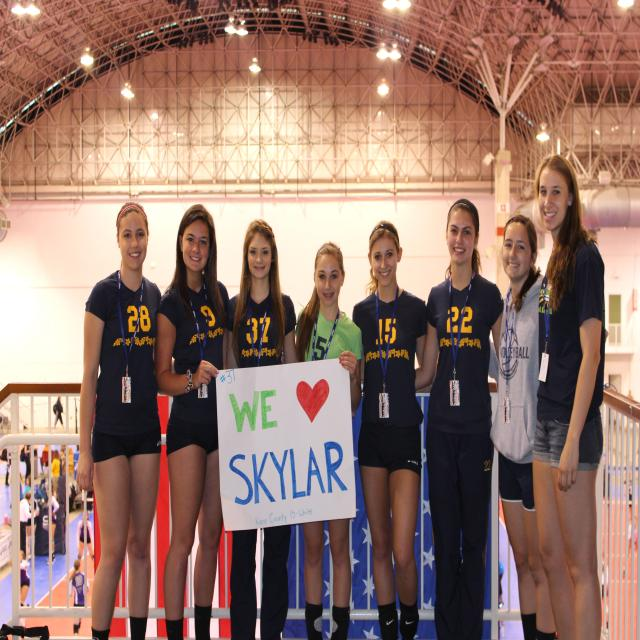body: (75, 198, 168, 640), (413, 196, 505, 639), (530, 152, 610, 640), (352, 220, 438, 640), (153, 203, 235, 640), (224, 217, 304, 640), (487, 211, 565, 640), (293, 239, 365, 640), (622, 469, 638, 581), (69, 558, 90, 638), (20, 492, 40, 560), (76, 510, 95, 569), (46, 487, 60, 558), (26, 489, 38, 560), (600, 556, 610, 634), (0, 439, 16, 487), (20, 549, 31, 607), (41, 445, 54, 492), (20, 550, 30, 606), (50, 449, 60, 504), (53, 396, 66, 430), (20, 445, 31, 484), (59, 448, 66, 476), (61, 446, 66, 450)
